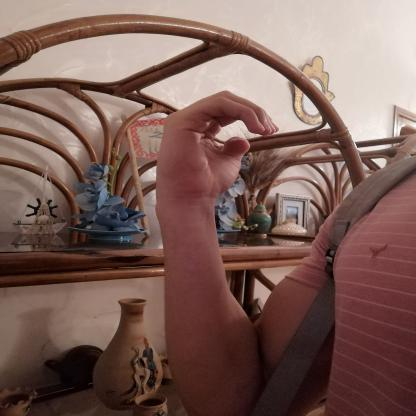JEEM: (140, 79, 290, 215)
